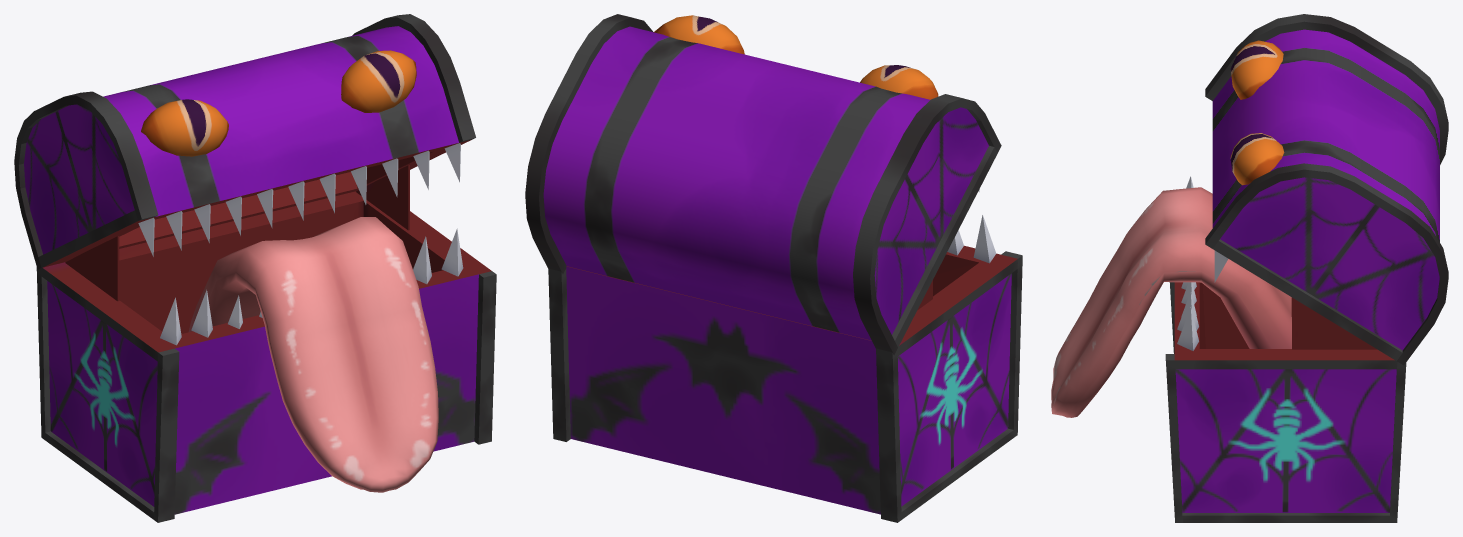
Rendered from mimic.fbx.
3 views of the same model, side by side, from view 1: azimuth 30°, elevation 25°; view 2: azimuth 150°, elevation 25°; view 3: azimuth 270°, elevation 25° (orthographic). The views are drawn at different scales.
Visible parts, largest first — view 1: body, head, tongue, pCube38, pCube37, pCube32, pCube31, pCube21, pCube29, pCube30; view 2: head, body, pCube37, pCube38, pCube30; view 3: head, body, tongue, pCube31, pCube38, pCube37, pCube21.
Part boxes in pixels (x1,y1,x2,y2): body: (36,191,496,522); head: (14,14,475,269); tongue: (188,217,438,492); pCube38: (141,99,228,156); pCube37: (341,50,416,112); pCube32: (65,236,119,301); pCube31: (356,165,409,230); pCube21: (441,228,463,276); pCube29: (191,289,212,337); pCube30: (160,297,181,345); head: (525,14,1001,354); body: (548,245,1022,522); pCube37: (654,15,744,54); pCube38: (860,65,938,99); pCube30: (973,215,996,263); head: (1205,14,1448,365); body: (1165,282,1406,522); tongue: (1051,187,1291,417); pCube31: (1291,297,1376,349); pCube38: (1230,40,1283,99); pCube37: (1230,133,1284,185); pCube21: (1177,307,1198,350).
Bounding box in the file's own units: 99.4 × 105 × 107.
